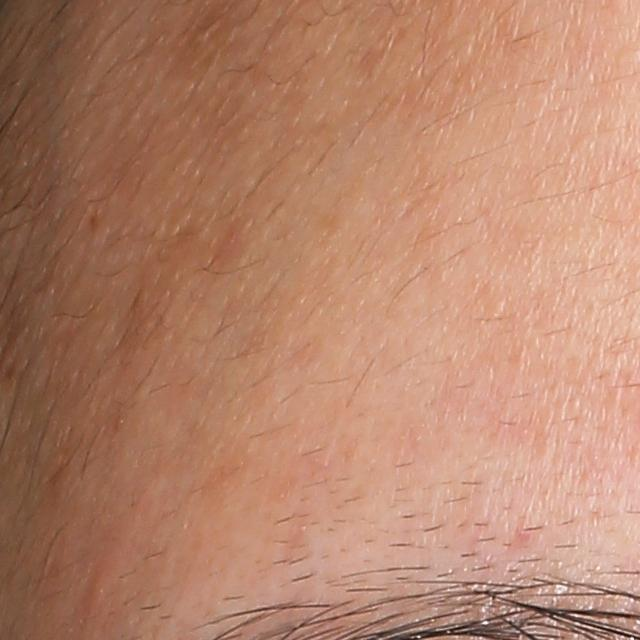papule: (86, 551, 122, 612)
